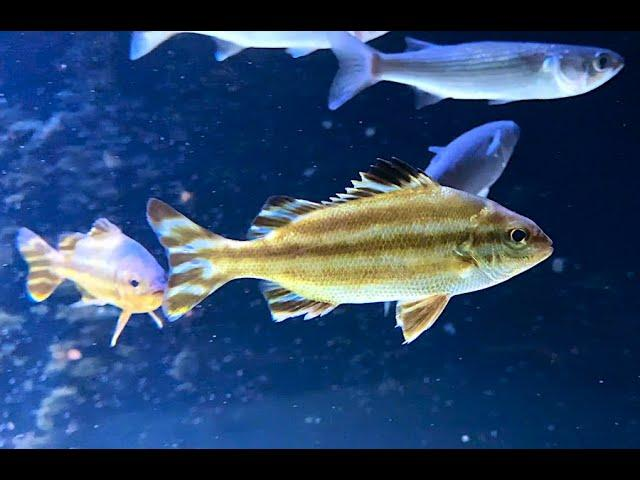Mulut: (522, 212, 568, 276), (598, 45, 630, 85), (139, 275, 175, 307)
Sirip Anal: (252, 271, 344, 327), (65, 283, 112, 321)
Sirip Dada: (395, 229, 487, 287)
Sirip Ekor: (136, 188, 230, 328), (9, 224, 65, 314), (325, 28, 373, 120)
Sirip Perut: (389, 289, 466, 345), (111, 302, 171, 344)
Sirip Punggung: (248, 154, 430, 230), (54, 214, 120, 258), (404, 32, 440, 58)
